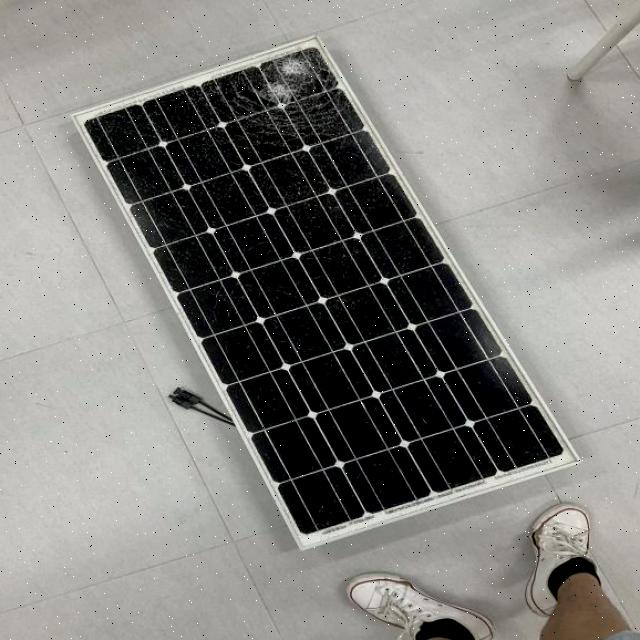Structural Damage: (178, 35, 375, 178)
